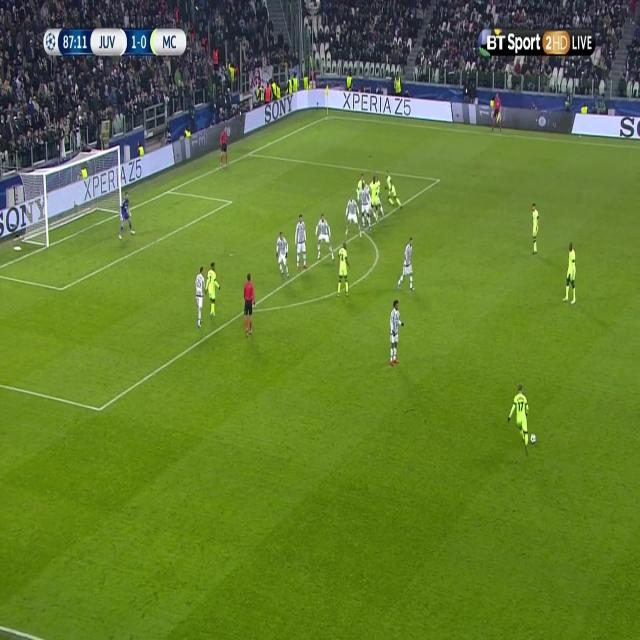Ball: (529, 431, 538, 448)
Goalkeeper: (116, 190, 137, 244)
Player: (507, 382, 530, 455), (387, 299, 403, 371), (313, 212, 335, 264), (395, 236, 416, 290), (563, 240, 579, 308), (274, 227, 294, 280), (335, 241, 352, 303), (384, 166, 406, 211), (343, 197, 366, 240), (205, 261, 222, 318), (193, 265, 207, 331), (293, 213, 309, 270), (531, 201, 544, 259), (358, 183, 372, 231), (370, 176, 382, 226)
Referee: (240, 270, 257, 338), (490, 92, 505, 136), (218, 121, 231, 167)
